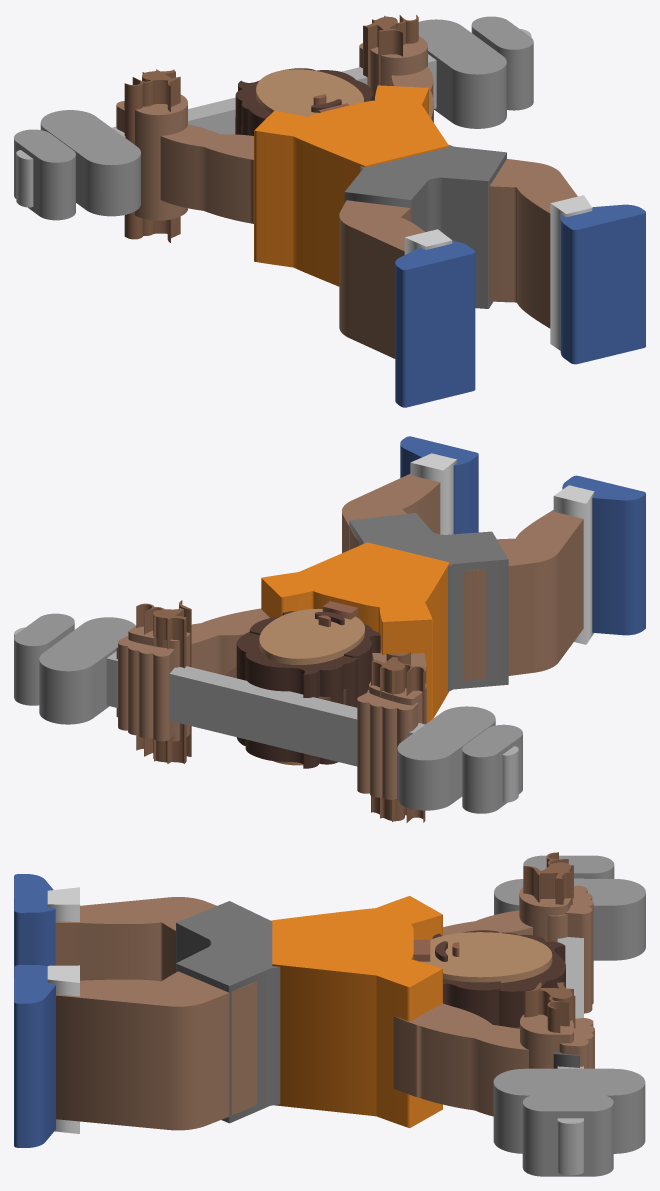
File: emoji_u1f3cb_1f3fd.glb
The picture shows the model from 3 angles, top to bottom: view 1: azimuth 30°, elevation 25°; view 2: azimuth 150°, elevation 25°; view 3: azimuth 270°, elevation 25°; orthographic projection. The views are drawn at different scales.
Parts seen in each view (by area): view 1: emoji_u1f3cb_1f3fd; view 2: emoji_u1f3cb_1f3fd; view 3: emoji_u1f3cb_1f3fd.
Boxes of the visible parts, left/top/right/bottom form: emoji_u1f3cb_1f3fd: left=14, top=15, right=645, bottom=407; emoji_u1f3cb_1f3fd: left=14, top=436, right=645, bottom=822; emoji_u1f3cb_1f3fd: left=14, top=852, right=645, bottom=1176.
Size of the model in its own units: 0.0334 by 0.0098 by 0.0333.
